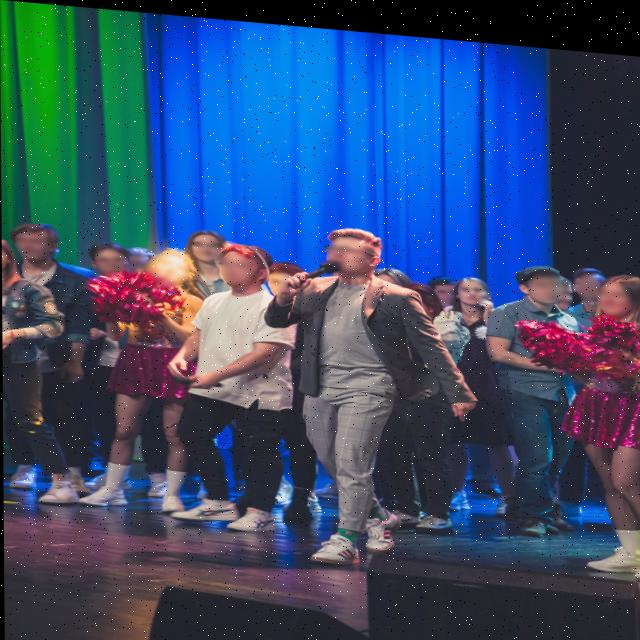Person: (290, 208, 412, 568), (202, 236, 295, 546), (500, 248, 588, 525), (569, 255, 640, 578), (127, 233, 194, 534), (18, 223, 84, 460), (445, 268, 498, 516), (177, 216, 226, 284), (96, 242, 124, 301)
